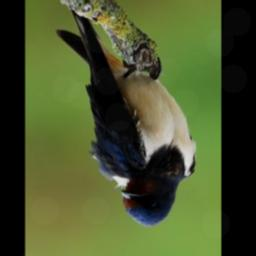Swallow: (54, 6, 197, 228)
